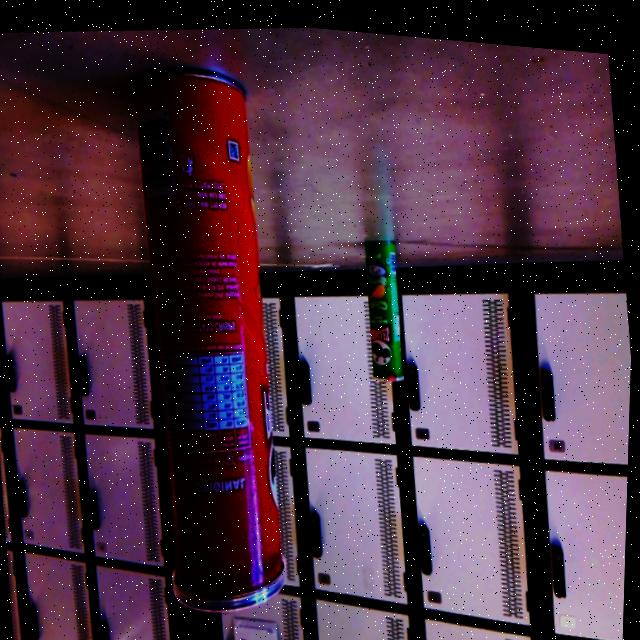greenpringles: (355, 220, 423, 391)
redpringles: (105, 42, 332, 640)
